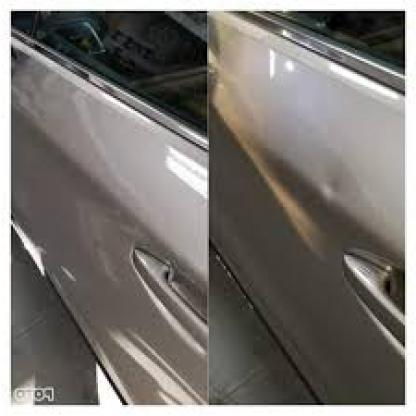dent: (318, 174, 350, 212)
